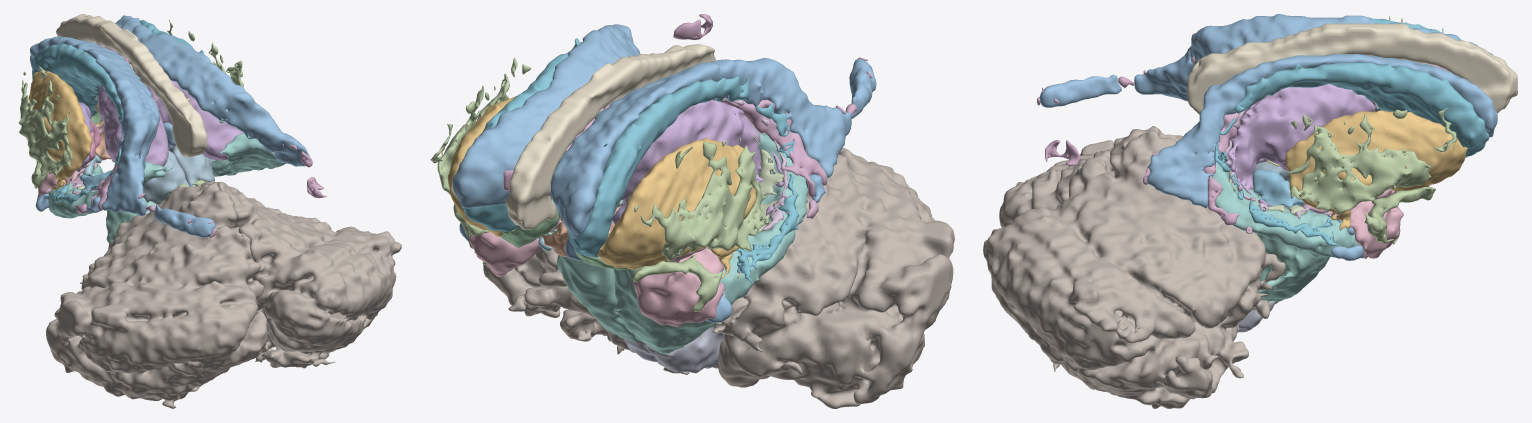
The model's file is learning.glb.
3 views of the same model, side by side, from view 1: azimuth 30°, elevation 25°; view 2: azimuth 150°, elevation 25°; view 3: azimuth 270°, elevation 25° (orthographic). The views are drawn at different scales.
Visible parts, largest first — view 1: learning:cerebellar-cortex-left, learning:cerebellar-cortex-right, learning:ventricles-left, learning:ventricles-right, learning:corpus-callosum, learning:left:caudate, learning:left:putamen, learning:left:claustrum, learning:right:hippocampus, learning:left:thalamus, learning:right:thalamus, learning:left:hippocampus (+7 smaller); view 2: learning:cerebellar-cortex-left, learning:ventricles-left, learning:corpus-callosum, learning:ventricles-right, learning:left:caudate, learning:left:claustrum, learning:left:putamen, learning:cerebellar-cortex-right, learning:left:thalamus, learning:left:amygdala, learning:left:hippocampus, learning:left:pons (+12 smaller); view 3: learning:cerebellar-cortex-right, learning:corpus-callosum, learning:right:caudate, learning:ventricles-right, learning:right:claustrum, learning:ventricles-left, learning:right:thalamus, learning:right:putamen, learning:right:hippocampus, learning:cerebellar-cortex-left, learning:right:pons, learning:choroid-plexus-right (+2 smaller).
Part boxes in pixels (x1,y1,x2,y2): learning:cerebellar-cortex-left: (46, 182, 267, 408); learning:cerebellar-cortex-right: (200, 181, 401, 368); learning:ventricles-left: (30, 36, 215, 237); learning:ventricles-right: (105, 15, 309, 166); learning:corpus-callosum: (56, 14, 207, 157); learning:left:caudate: (32, 36, 123, 205); learning:left:putamen: (29, 69, 92, 194); learning:left:claustrum: (19, 66, 72, 188); learning:right:hippocampus: (212, 120, 285, 176); learning:left:thalamus: (91, 85, 168, 191); learning:right:thalamus: (146, 80, 243, 160); learning:left:hippocampus: (48, 162, 175, 218); learning:cerebellar-cortex-left: (712, 124, 954, 408); learning:ventricles-left: (550, 57, 876, 322); learning:corpus-callosum: (505, 44, 715, 229); learning:ventricles-right: (452, 24, 640, 241); learning:left:caudate: (568, 76, 799, 284); learning:left:claustrum: (632, 136, 770, 311); learning:left:putamen: (597, 138, 756, 278); learning:cerebellar-cortex-right: (483, 248, 689, 374); learning:left:thalamus: (621, 100, 783, 215); learning:left:amygdala: (633, 247, 724, 327); learning:left:hippocampus: (720, 133, 808, 304); learning:left:pons: (613, 269, 716, 353); learning:cerebellar-cortex-right: (983, 130, 1285, 408); learning:corpus-callosum: (1187, 23, 1517, 114); learning:right:caudate: (1214, 62, 1489, 245); learning:ventricles-right: (1147, 53, 1497, 260); learning:right:claustrum: (1287, 108, 1456, 244); learning:ventricles-left: (1039, 14, 1492, 107); learning:right:thalamus: (1227, 84, 1375, 206); learning:right:putamen: (1285, 110, 1467, 230); learning:right:hippocampus: (1212, 157, 1363, 258); learning:cerebellar-cortex-left: (999, 126, 1183, 227); learning:right:pons: (1257, 204, 1329, 304); learning:choroid-plexus-right: (1045, 68, 1444, 255).
Bounding box in the file's own units: 0.106 × 0.09 × 0.131.
